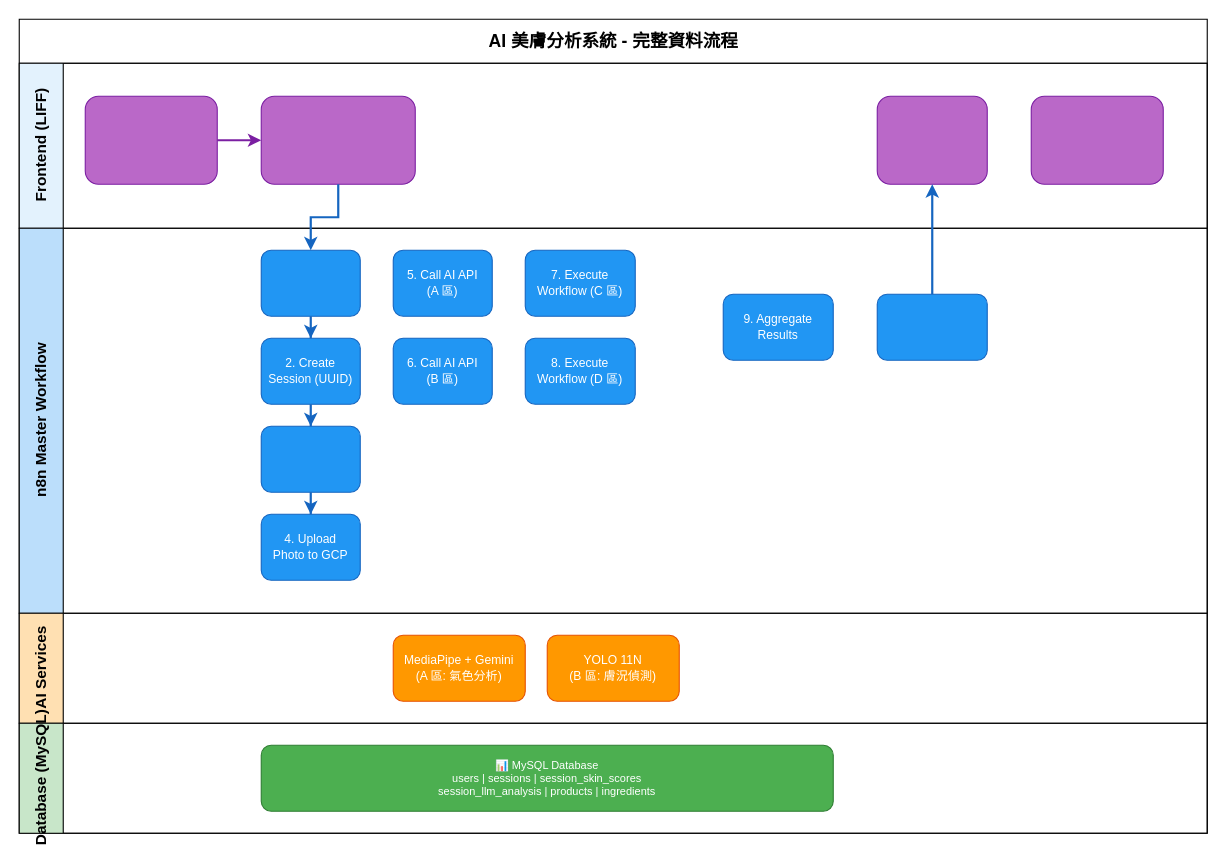
The diagram is 1227 pixels wide and 866 high, and some of its shapes have lost their labels. The centre of each missing label's shape, as x and y in pixels:
"1. Webhook Trigger" goes at [310,282].
"10. Respond session_id" goes at [931,326].
"3. Save to MySQL" goes at [310,458].
"使用者上傳 照片+問卷" goes at [150,139].
"呼叫 GCP API GET /get-result" goes at [1096,139].
"呼叫 n8n POST /webhook/analyze" goes at [337,139].
"收到 session_id" goes at [931,139].
